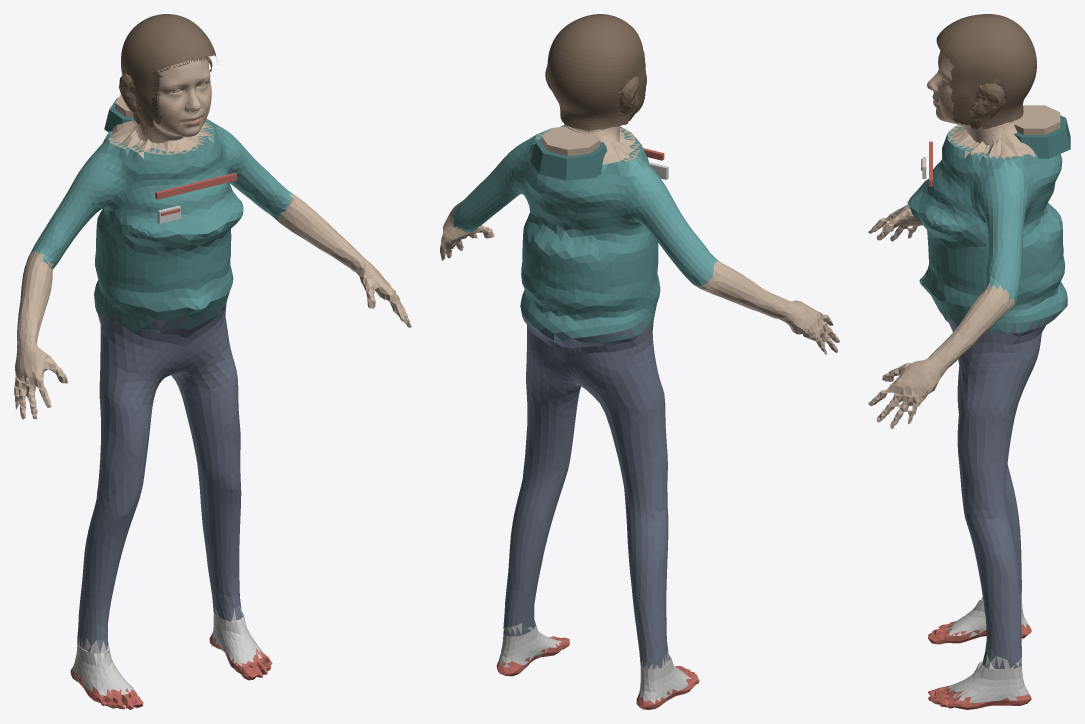
Rendered from sam_miller_gnm.glb.
3 views of the same model, side by side, from view 1: azimuth 30°, elevation 25°; view 2: azimuth 150°, elevation 25°; view 3: azimuth 270°, elevation 25° (orthographic).
Visible parts, largest first — view 1: sam_miller_portrait; view 2: sam_miller_portrait; view 3: sam_miller_portrait.
Part boxes in pixels (x1,y1,x2,y2): sam_miller_portrait: [14, 14, 411, 709]; sam_miller_portrait: [440, 14, 839, 709]; sam_miller_portrait: [868, 14, 1070, 709].
Bounding box in the file's own units: 0.873 × 1.41 × 0.3963.
